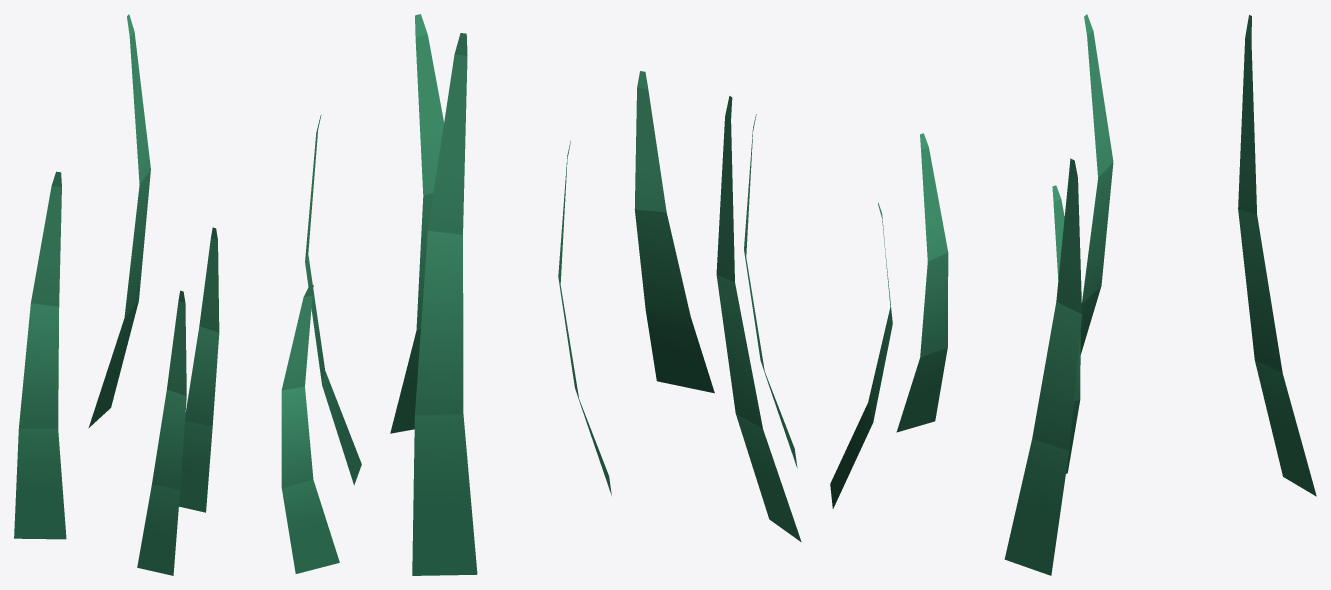
The model's file is Grass3.fbx.
3 renders of one model, left to right at view 1: azimuth 30°, elevation 25°; view 2: azimuth 150°, elevation 25°; view 3: azimuth 270°, elevation 25°, orthographic. The views are drawn at different scales.
Visible parts, largest first — view 1: Plane.002, Plane, Plane.003, Plane.005, Plane.004, Plane.001; view 2: Plane.004, Plane, Plane.002, Plane.001, Plane.005, Plane.003; view 3: Plane.001, Plane.004, Plane.003, Plane.002, Plane, Plane.005.
Part boxes in pixels (x1,y1,x2,y2): Plane.002: (14, 171, 66, 539); Plane: (281, 285, 339, 573); Plane.003: (137, 290, 186, 575); Plane.005: (179, 227, 219, 512); Plane.004: (88, 14, 150, 428); Plane.001: (305, 114, 361, 485); Plane.004: (412, 33, 477, 575); Plane: (634, 71, 714, 393); Plane.002: (716, 96, 801, 542); Plane.001: (390, 14, 443, 433); Plane.005: (558, 141, 611, 495); Plane.003: (744, 114, 797, 468); Plane.001: (1004, 158, 1082, 575); Plane.004: (1238, 15, 1316, 496); Plane.003: (896, 133, 948, 432); Plane.002: (1080, 14, 1113, 354); Plane: (830, 202, 892, 508); Plane.005: (1052, 185, 1080, 473).
Size of the model in its own units: 171 by 203 by 187.
Materials: 1 (1 with a texture image).
